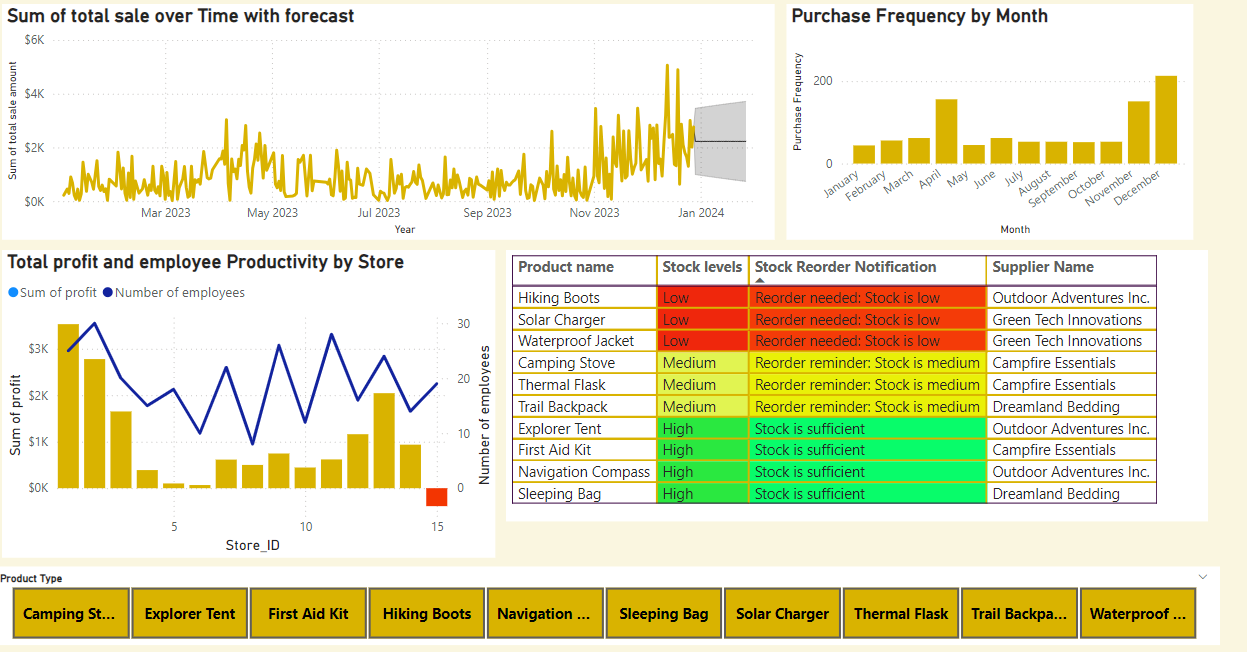

The dashboard page shown, as its layout file describes it:
{"tool":"powerbi","page":{"name":"Operational ","canvas":[1280,720],"ordinal":2},"visuals":[{"type":"lineChart","title":"Sum of total sale over Time with forecast ","fields":{"Category":["Sales.date.Variation.Date Hierarchy.Year","Sales.date.Variation.Date Hierarchy.Quarter","Sales.date.Variation.Date Hierarchy.Month","Sales.date.Variation.Date Hierarchy.Day"],"Y":["Sum(Sales.total sale amount)"]},"box":[15.1,60.6,779.8,237.7],"z":0},{"type":"actionButton","box":[0,0,100,40],"z":1000},{"type":"lineStackedColumnComboChart","title":"Total profit and employee Productivity by Store","fields":{"Y2":["Avg(Stores.Number of employees)"],"Category":["Stores.Store_ID"],"Y":["Sum(Sales.profit)"]},"box":[15.1,308.9,498.2,310.4],"z":2000},{"type":"tableEx","fields":{"Values":["Products.name","Products.stock levels","Products.Stock Reorder Notification","Supplier.Name"]},"box":[523.9,308.9,708.6,274.1],"z":3000},{"type":"slicer","fields":{"Values":["Products.name"]},"box":[0,628.5,1244.7,79.6],"z":4000},{"type":"textbox","box":[49.4,0,603.8,53.5],"z":5000},{"type":"image","box":[1155.3,0,124.2,60.6],"z":6000},{"type":"columnChart","title":"Purchase Frequency by Month","fields":{"Category":["Sales.date.Variation.Date Hierarchy.Month"],"Y":["CountNonNull(Sales.customer ID)"]},"box":[807.1,60.6,410.3,237.7],"z":7000}]}

Visuals, with their boxes on the page's 1280x720 design canvas (x1, y1, x2, y2). These are canvas units, not pixel positions in the 1247x652 screenshot, which may show the page scaled, cropped or inside an application window:
"Sum of total sale over Time with forecast " lineChart: [15, 61, 795, 298]
actionButton: [0, 0, 100, 40]
"Total profit and employee Productivity by Store" lineStackedColumnComboChart: [15, 309, 513, 619]
tableEx - Products.name x Products.stock levels: [524, 309, 1232, 583]
slicer - Products.name: [0, 628, 1245, 708]
textbox: [49, 0, 653, 54]
image: [1155, 0, 1280, 61]
"Purchase Frequency by Month" columnChart: [807, 61, 1217, 298]
